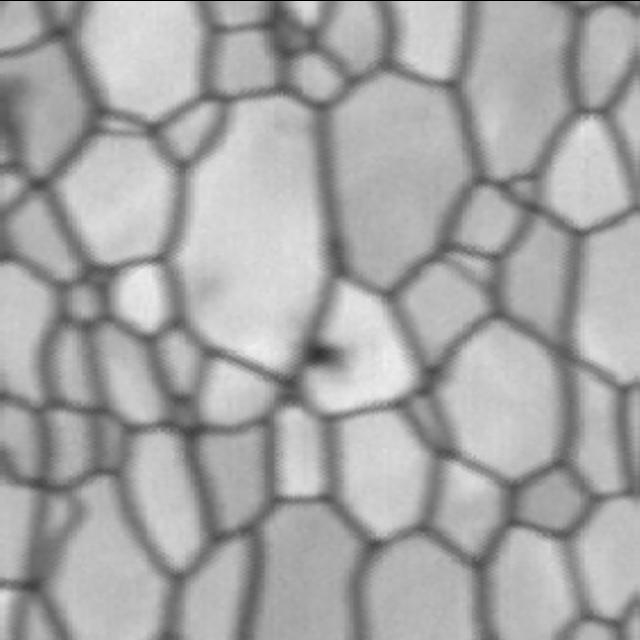good_void: (293, 330, 357, 376)
